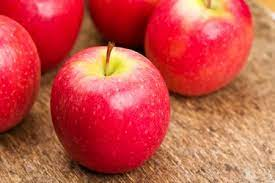apple: (51, 44, 173, 175)
